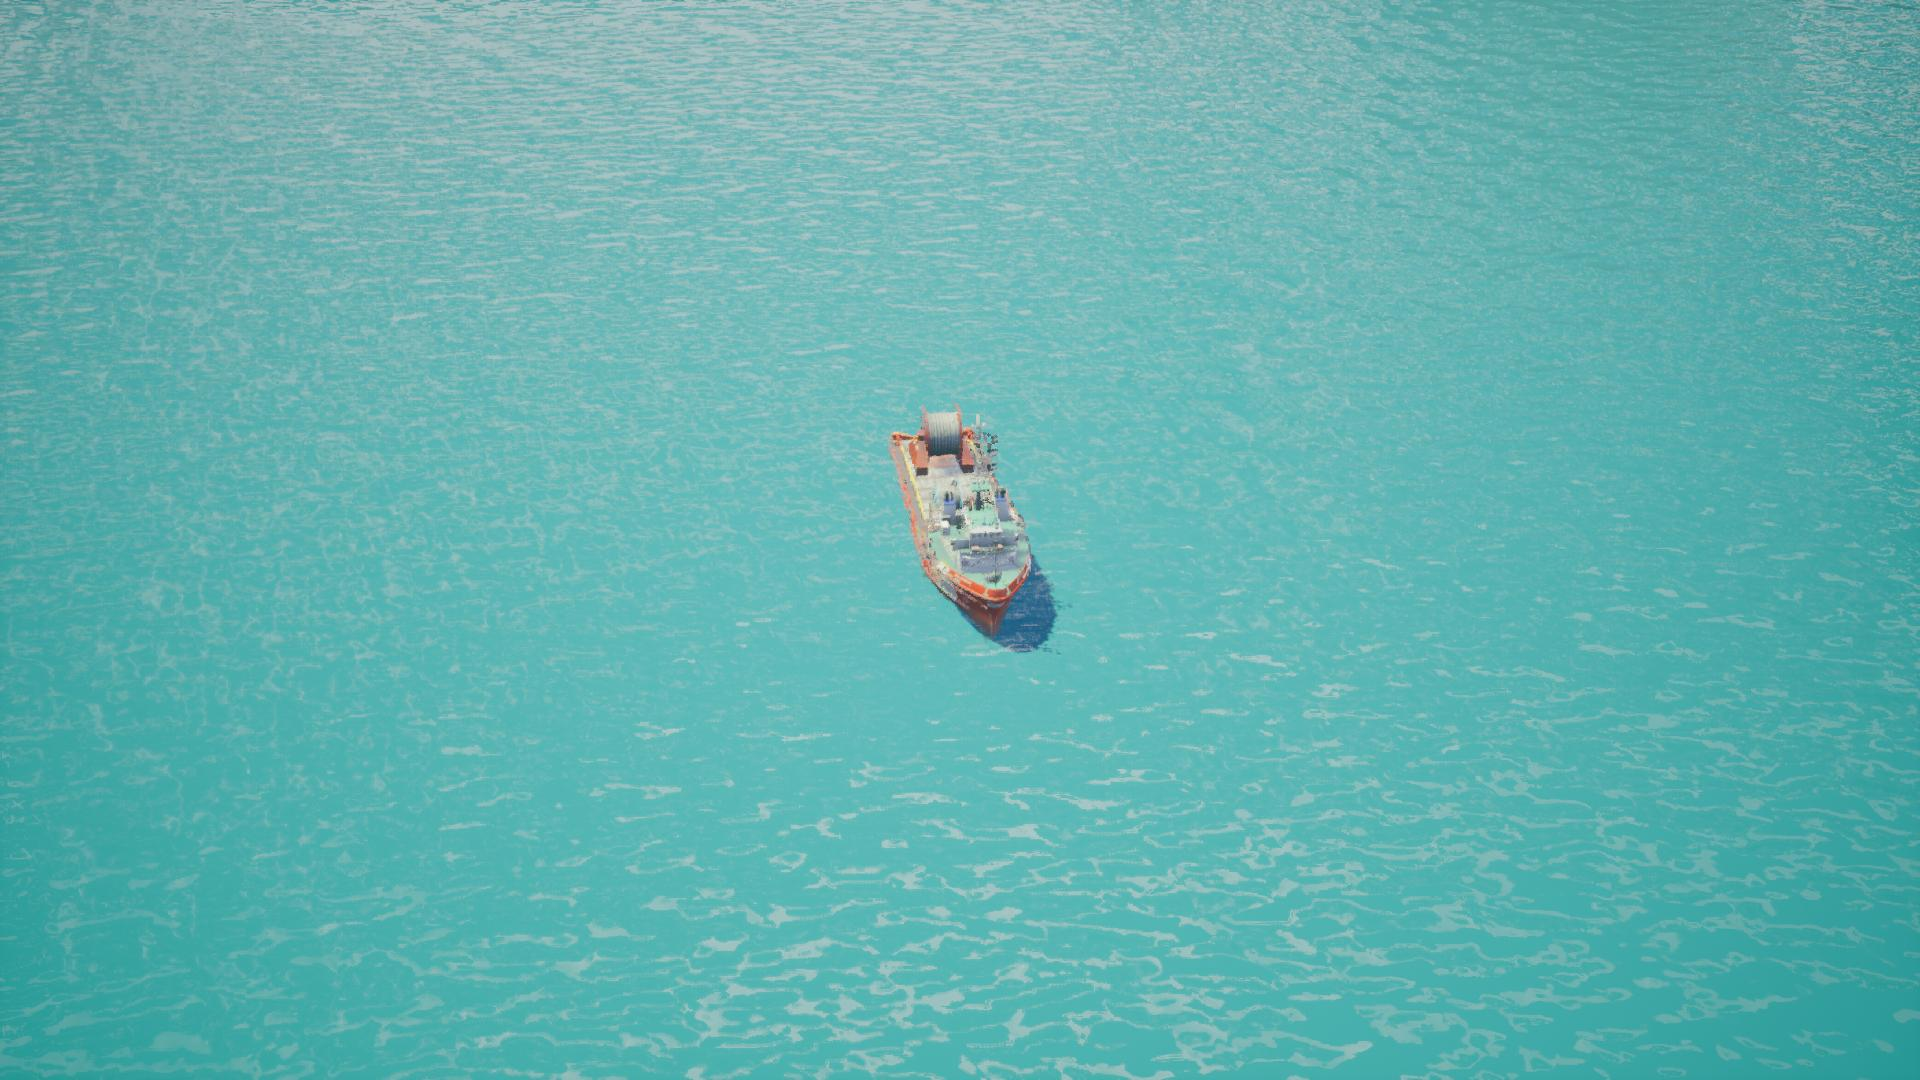Tug Boat: (842, 360, 1110, 650)
